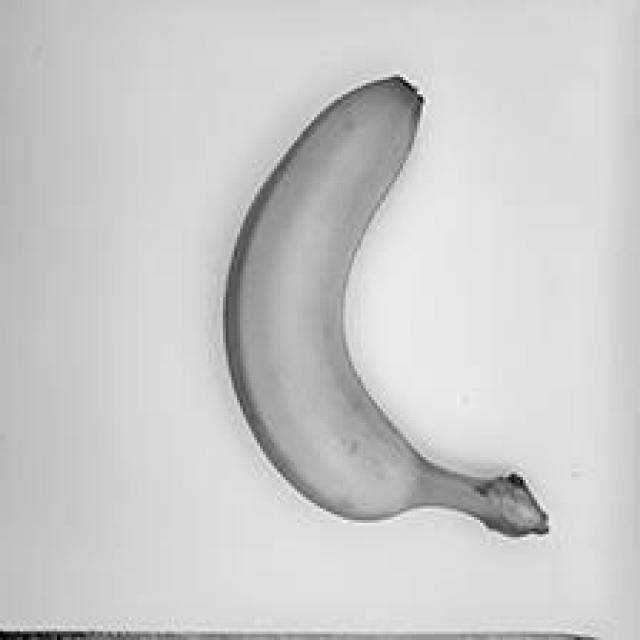Unripe: (216, 75, 555, 548)
